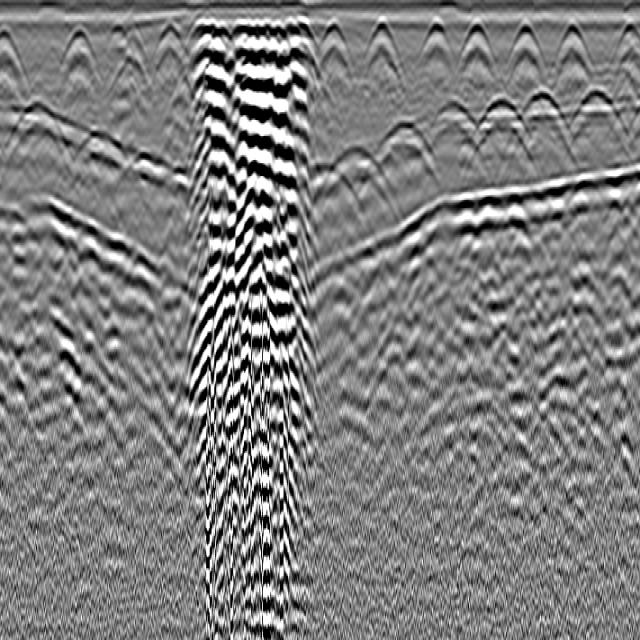hyperbola: (350, 120, 442, 216), (314, 138, 405, 221), (412, 98, 497, 176), (498, 81, 576, 166), (309, 155, 370, 228), (4, 93, 73, 156), (462, 95, 537, 152), (562, 82, 627, 141), (76, 130, 141, 185), (360, 18, 410, 74), (55, 23, 100, 82), (314, 19, 357, 66), (553, 21, 596, 68), (457, 23, 500, 69), (504, 23, 548, 64), (418, 21, 458, 66), (0, 24, 32, 78), (155, 21, 188, 61), (611, 19, 639, 57), (102, 19, 132, 52)
